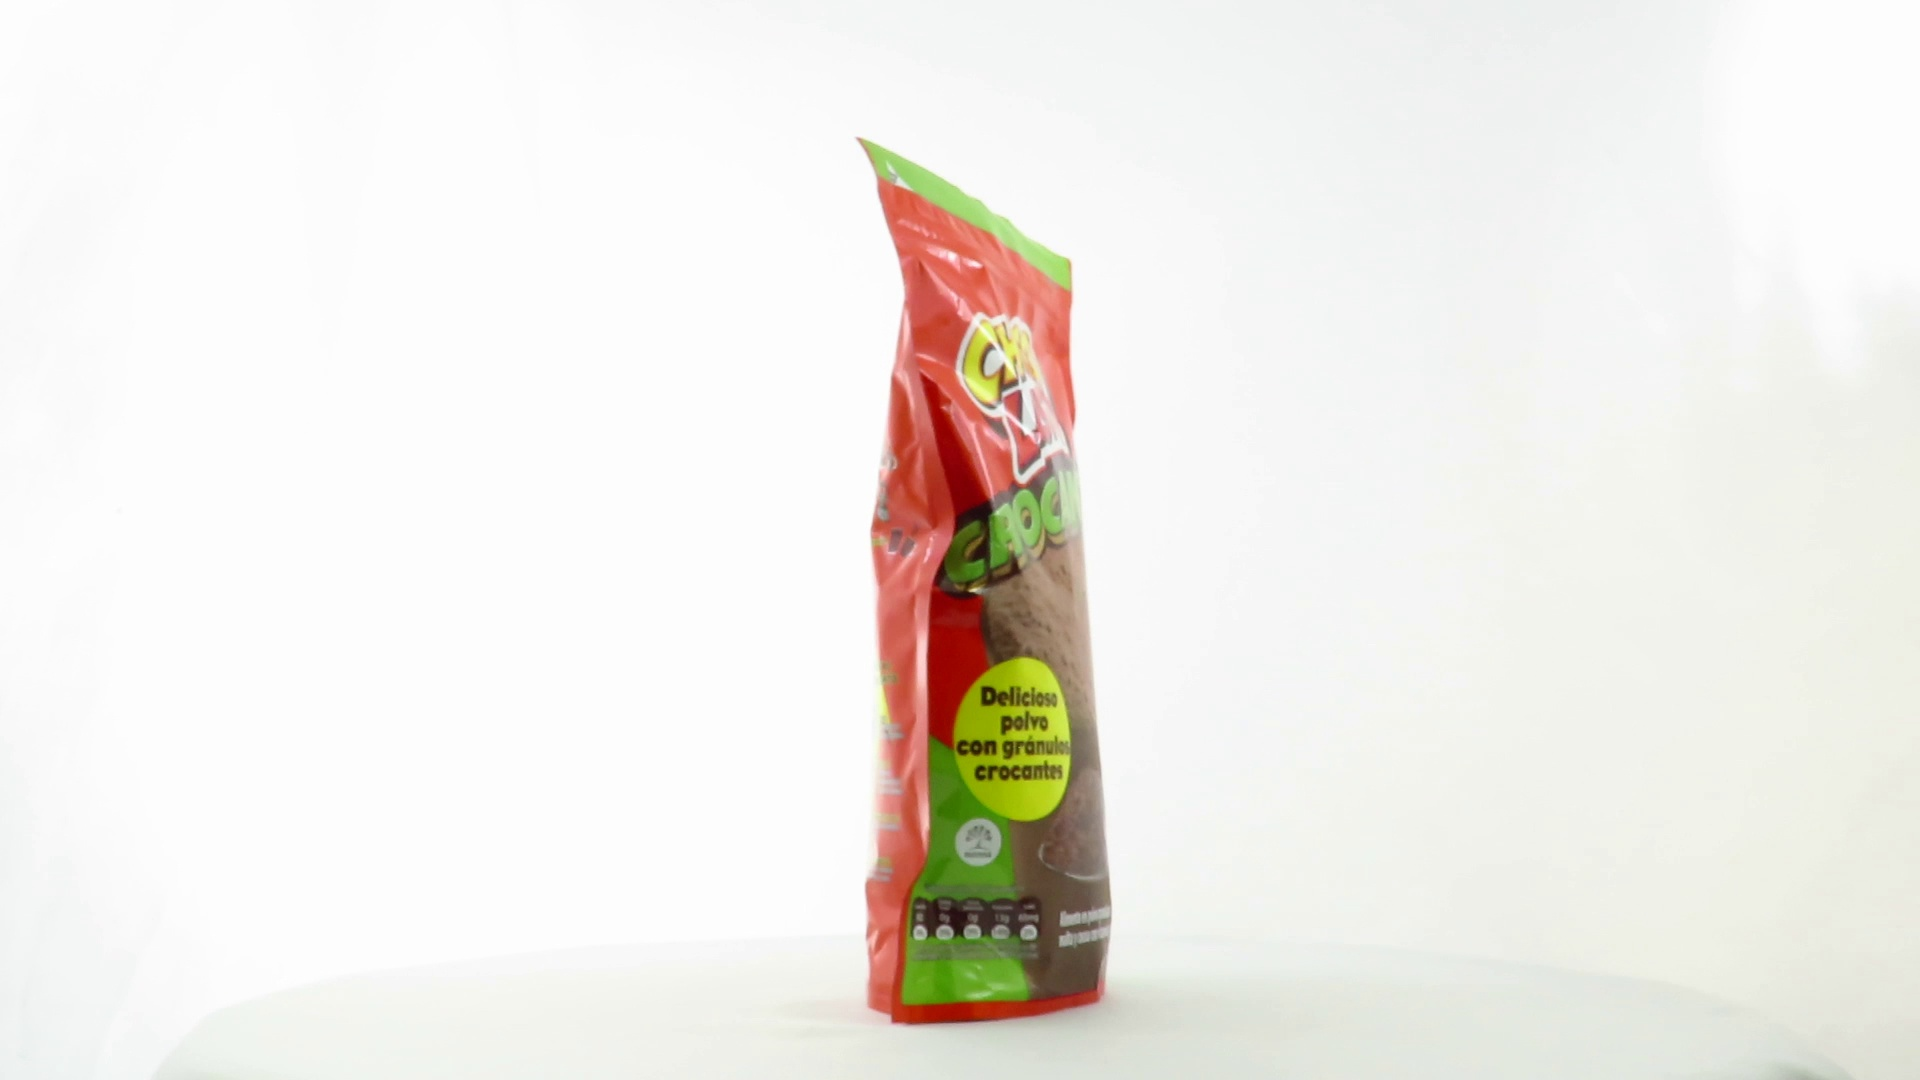COL0170102DYP50000: (851, 132, 1118, 1031)
